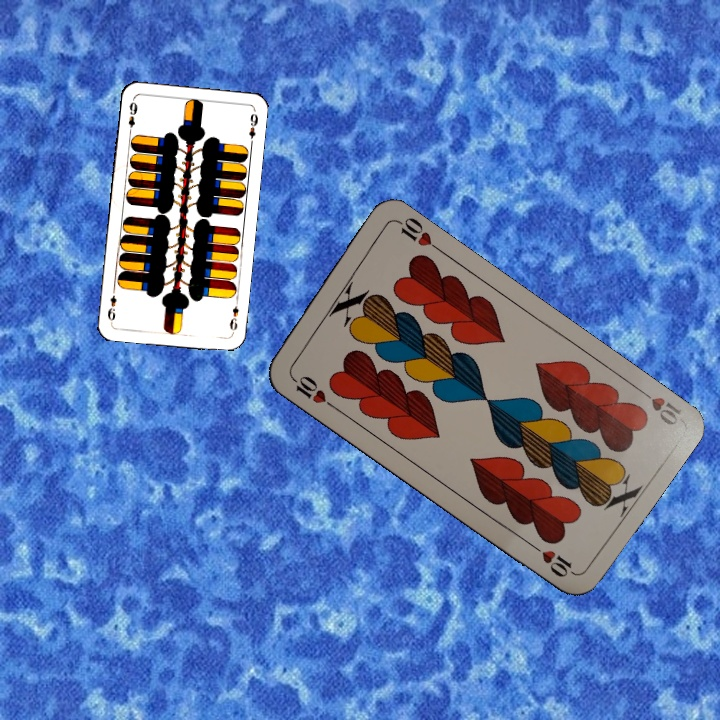E9: (124, 96, 140, 137), (225, 296, 241, 336)
H10: (632, 383, 684, 428), (286, 370, 337, 411)
